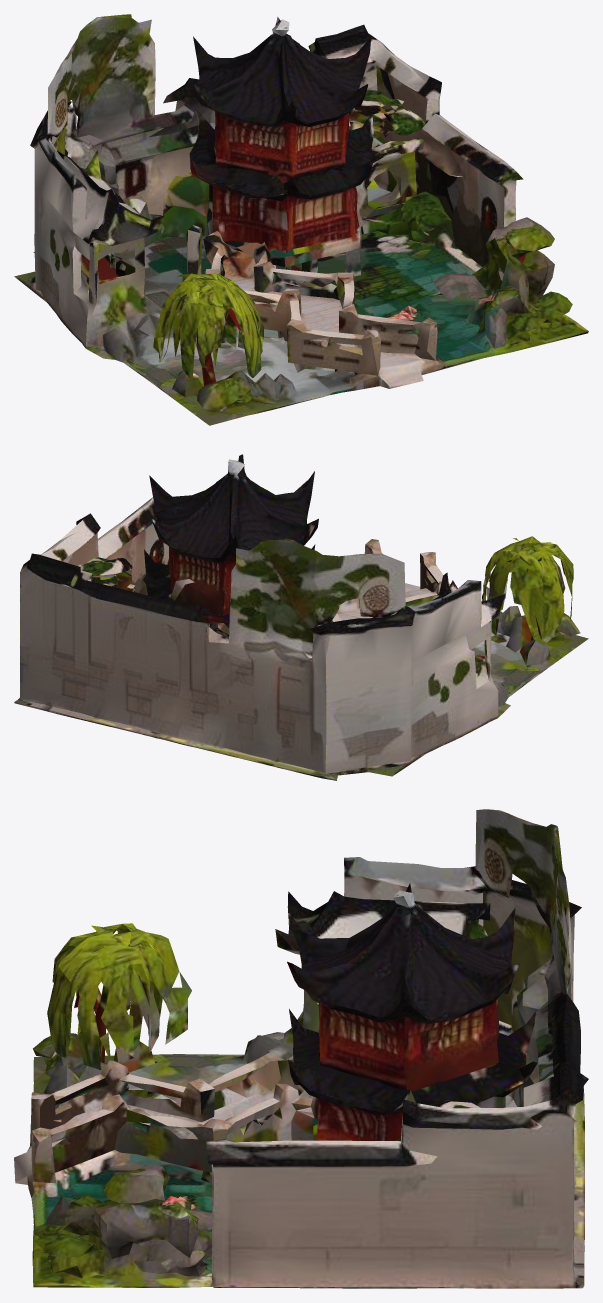
File: yuyuan-garden.glb
3 views of the same model, one above another, from view 1: azimuth 30°, elevation 25°; view 2: azimuth 150°, elevation 25°; view 3: azimuth 270°, elevation 25° (orthographic). The views are drawn at different scales.
Parts seen in each view (by area): view 1: logan-textured.obj; view 2: logan-textured.obj; view 3: logan-textured.obj.
Part boxes in pixels (x1,y1,x2,y2): logan-textured.obj: [14, 14, 588, 425]; logan-textured.obj: [14, 454, 588, 780]; logan-textured.obj: [14, 809, 588, 1288].
Size of the model in its own units: 1 by 0.577 by 0.9973.
Materials: 1 (1 with a texture image).
